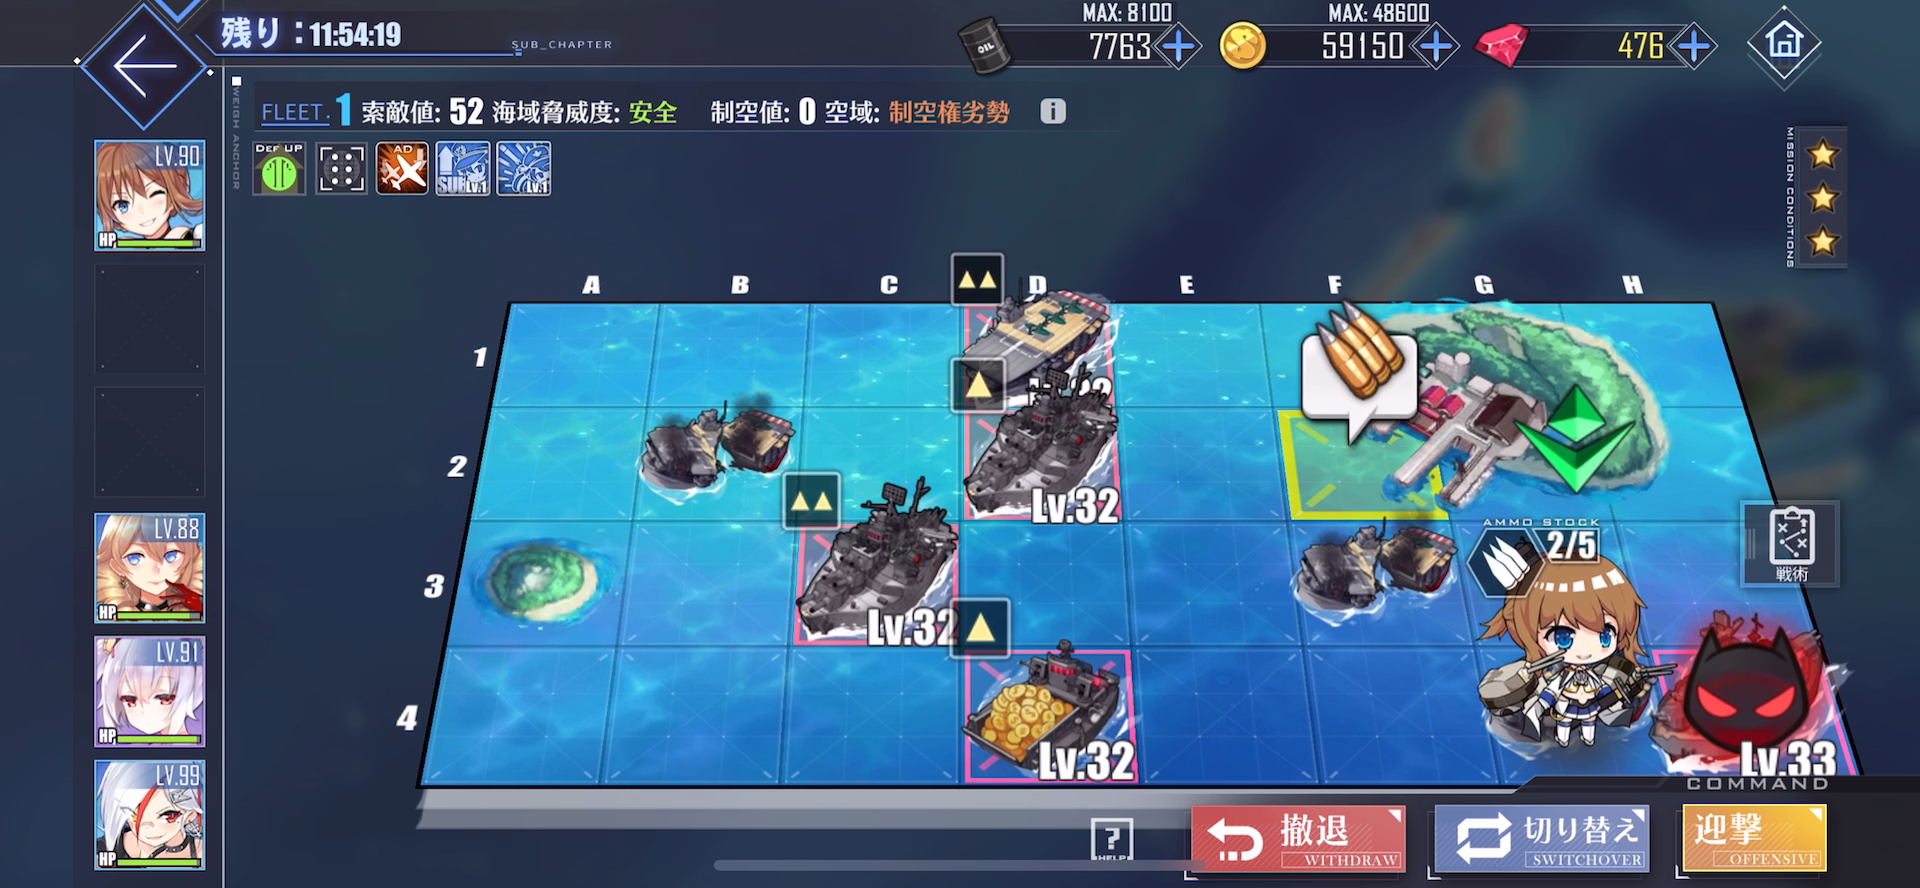boss: (1643, 605, 1844, 780)
lv1: (954, 600, 1131, 774), (951, 358, 1119, 514)
lv2: (776, 470, 962, 641), (943, 244, 1109, 389)
